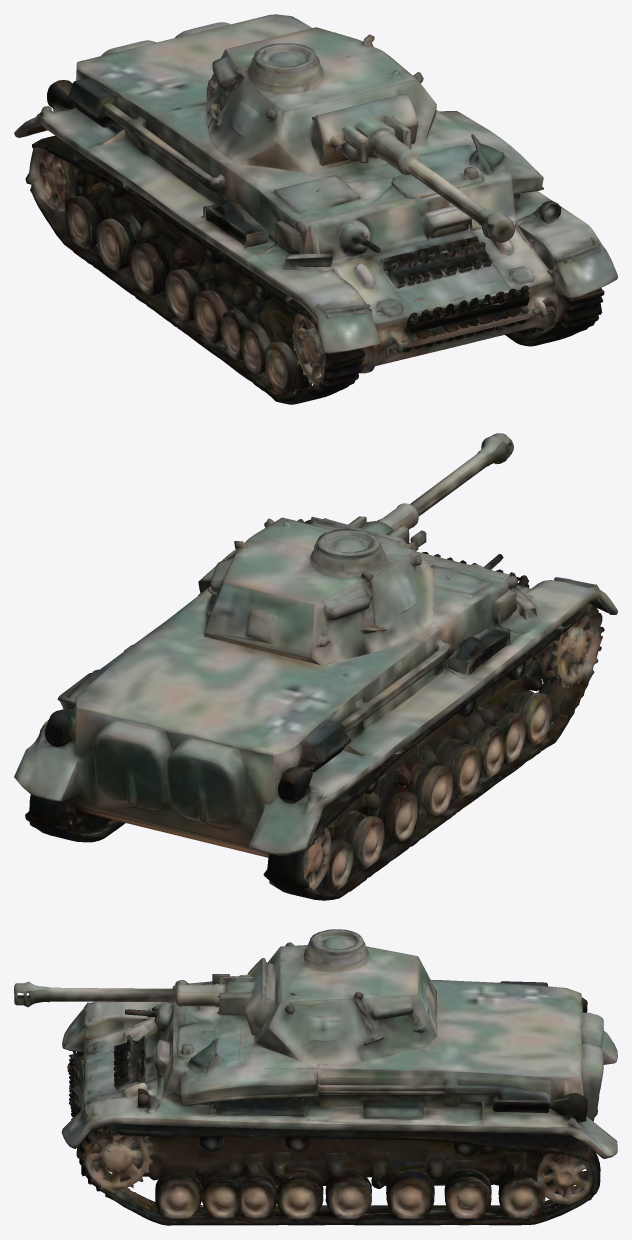
The model's file is pz4_opt.glb.
The picture shows the model from 3 angles, top to bottom: view 1: azimuth 30°, elevation 25°; view 2: azimuth 150°, elevation 25°; view 3: azimuth 270°, elevation 25°; orthographic projection. The views are drawn at different scales.
Parts seen in each view (by area): view 1: node_0; view 2: node_0; view 3: node_0.
Part boxes in pixels (box(x1,y1,x2,y2)): node_0: box(14, 14, 617, 404); node_0: box(14, 433, 617, 900); node_0: box(14, 929, 617, 1225).
Bounding box in the file's own units: 0.5348 × 0.436 × 1.1.
1 material, 1 textured.
